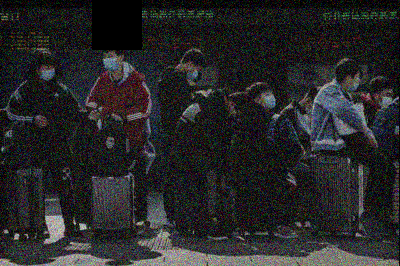mask_weared_incorrect: (347, 78, 361, 93)
with_mask: (102, 52, 118, 70), (39, 64, 55, 81), (261, 91, 276, 109), (379, 89, 393, 107), (186, 67, 200, 80)
